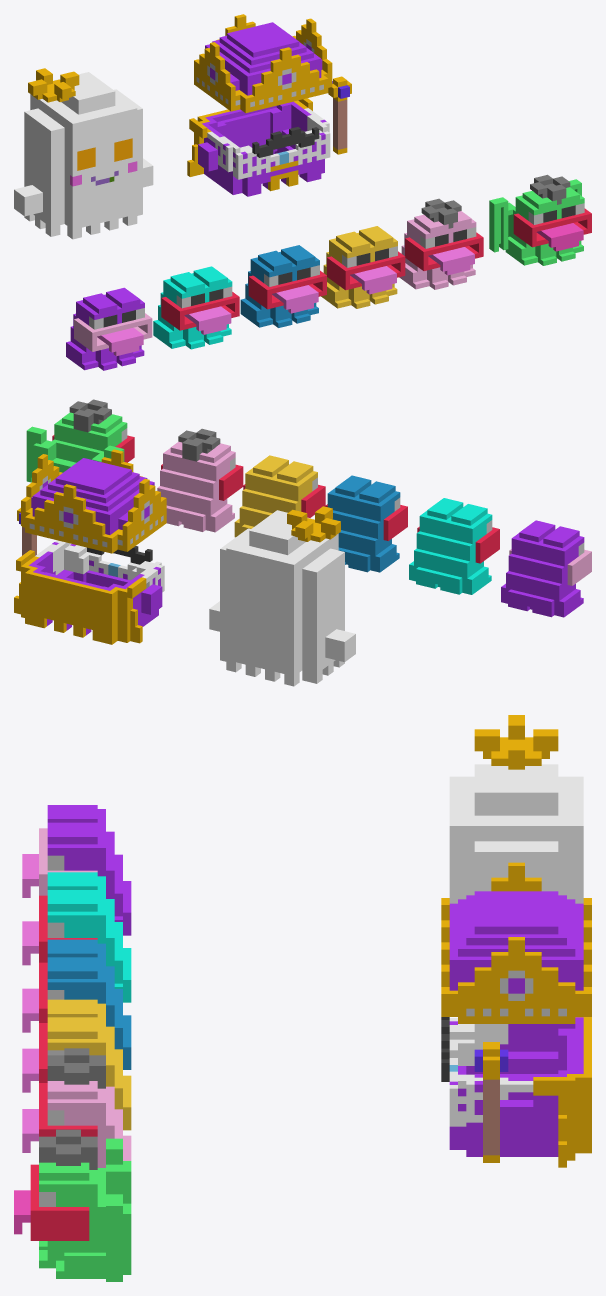
The model's file is 53- gotchi king.fbx.
The picture shows the model from 3 angles, top to bottom: view 1: azimuth 30°, elevation 25°; view 2: azimuth 150°, elevation 25°; view 3: azimuth 270°, elevation 25°; orthographic projection. The views are drawn at different scales.
Parts seen in each view (by area): view 1: king_rofls015, 149, 150, 152, 151, 153, 154, 156, 156.1, 155.1, 155, 147 (+4 smaller); view 2: king_rofls015, 150, 149, 151, 152, 153, 155, 154, 156, 155.1, 147, 156.1 (+3 smaller); view 3: 149, king_rofls015, 150, 156, 151, 152, 153, 154, 156.1, 155, 155.1, 147 (+3 smaller).
Boxes of the visible parts, <box> form: king_rofls015: <box>14,72,153,239</box>; 149: <box>194,14,332,113</box>; 150: <box>187,98,330,196</box>; 152: <box>153,266,239,349</box>; 151: <box>66,287,152,370</box>; 153: <box>240,245,326,327</box>; 154: <box>321,226,405,308</box>; 156: <box>489,179,584,265</box>; 156.1: <box>513,174,591,251</box>; 155.1: <box>405,198,483,275</box>; 155: <box>399,211,476,289</box>; 147: <box>28,68,79,102</box>; king_rofls015: <box>209,510,355,686</box>; 150: <box>14,540,164,644</box>; 149: <box>21,449,166,553</box>; 151: <box>501,520,591,617</box>; 152: <box>409,498,499,594</box>; 153: <box>325,475,407,572</box>; 155: <box>157,441,235,532</box>; 154: <box>234,455,325,537</box>; 156: <box>26,412,127,482</box>; 155.1: <box>161,428,243,500</box>; 147: <box>287,506,340,542</box>; 156.1: <box>52,399,134,462</box>; 149: <box>441,862,591,1023</box>; king_rofls015: <box>449,764,583,903</box>; 150: <box>449,1017,591,1167</box>; 156: <box>39,1138,131,1281</box>; 151: <box>22,805,131,935</box>; 152: <box>22,872,131,1002</box>; 153: <box>22,939,131,1069</box>; 154: <box>22,999,131,1130</box>; 156.1: <box>14,1129,97,1240</box>; 155: <box>47,1081,131,1167</box>; 155.1: <box>22,1048,105,1152</box>; 147: <box>474,715,558,769</box>.
Size of the model in its own units: 1110 by 330 by 690.
Materials: 26 (25 with a texture image).
